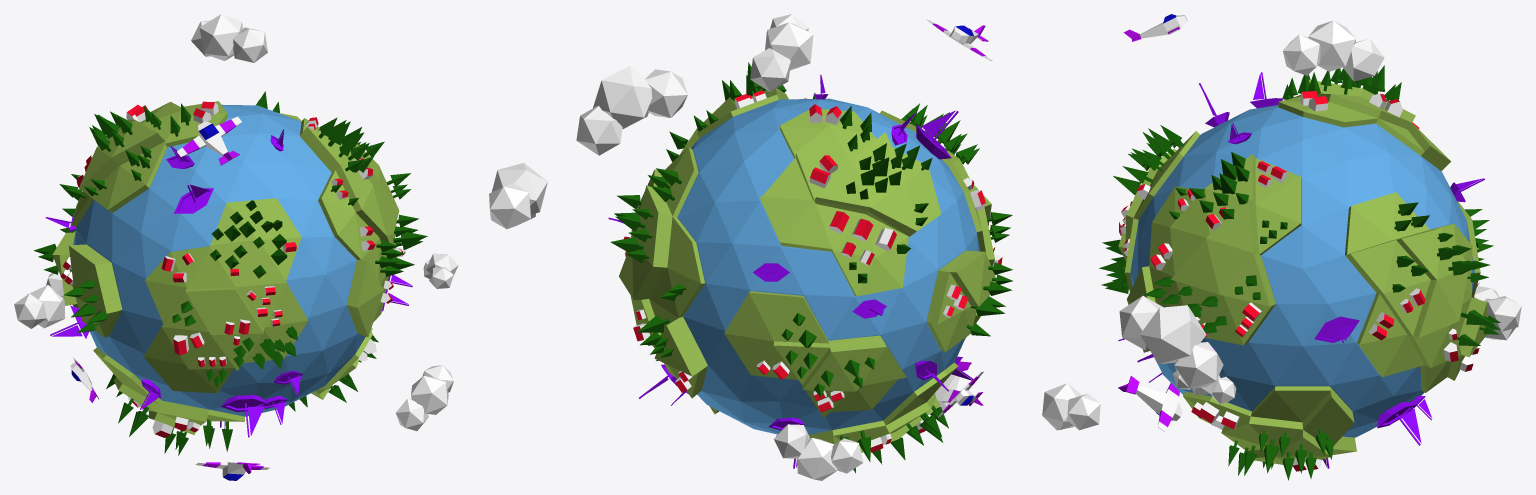
3 renders of one model, left to right at view 1: azimuth 30°, elevation 25°; view 2: azimuth 150°, elevation 25°; view 3: azimuth 270°, elevation 25°, orthographic. The views are drawn at different scales.
Parts seen in each view (by area): view 1: Icokugel, Icokugel.001, Icokugel.004, Icokugel.003, Icokugel.002, Icokugel.005, object 232, Icokugel.006, object 218, object 215, object 234; view 2: Icokugel, Icokugel.001, Icokugel.004, Icokugel.003, Icokugel.005, object 215, object 232, object 234, object 233, object 228; view 3: Icokugel, Icokugel.001, Icokugel.004, Icokugel.003, Icokugel.002, Icokugel.005, object 234, object 225, Icokugel.006, object 224, object 232.
Part boxes in pixels (x1,y1,x2,y2): Icokugel: [52, 101, 399, 434]; Icokugel.001: [73, 104, 365, 416]; Icokugel.004: [489, 163, 547, 229]; Icokugel.003: [191, 14, 267, 62]; Icokugel.002: [396, 365, 453, 430]; Icokugel.005: [14, 271, 65, 328]; object 232: [177, 116, 241, 165]; Icokugel.006: [423, 253, 458, 288]; object 218: [221, 395, 269, 437]; object 215: [174, 184, 213, 213]; object 234: [196, 462, 270, 480]; Icokugel: [619, 88, 996, 452]; Icokugel.001: [677, 98, 979, 434]; Icokugel.004: [576, 65, 687, 155]; Icokugel.003: [750, 14, 813, 91]; Icokugel.005: [774, 424, 863, 480]; object 215: [916, 110, 958, 159]; object 232: [926, 19, 992, 60]; object 234: [932, 361, 971, 411]; object 233: [938, 371, 983, 417]; object 228: [753, 263, 789, 281]; Icokugel: [1118, 80, 1487, 464]; Icokugel.001: [1130, 105, 1474, 437]; Icokugel.004: [1119, 296, 1223, 388]; Icokugel.003: [1283, 20, 1384, 81]; Icokugel.002: [1042, 383, 1100, 430]; Icokugel.005: [1474, 286, 1521, 340]; object 234: [1118, 376, 1182, 431]; object 225: [1377, 401, 1421, 445]; Icokugel.006: [1173, 370, 1236, 403]; object 224: [1314, 316, 1359, 342]; object 232: [1123, 14, 1187, 41].
Size of the model in its own units: 3.34 by 3.01 by 2.91.
